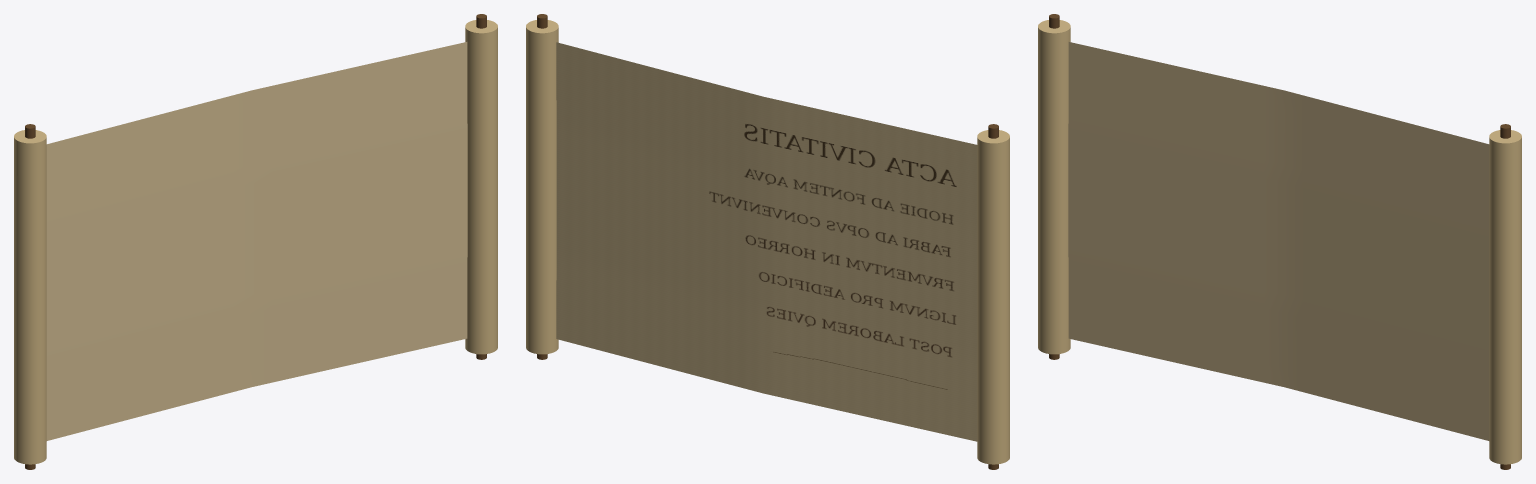
The model's file is prop-papyrus_scroll.gltf.
3 views of the same model, side by side, from view 1: azimuth 30°, elevation 25°; view 2: azimuth 150°, elevation 25°; view 3: azimuth 330°, elevation 25° (orthographic).
Parts seen in each view (by area): view 1: papyrus_scroll; view 2: papyrus_scroll; view 3: papyrus_scroll.
Part boxes in pixels (box(x1,y1,x2,y2)): papyrus_scroll: box(14, 14, 497, 469); papyrus_scroll: box(526, 14, 1009, 469); papyrus_scroll: box(1038, 14, 1521, 469).
Bounding box in the file's own units: 0.372 × 0.253 × 0.022.
Materials: 4 (1 with a texture image).
